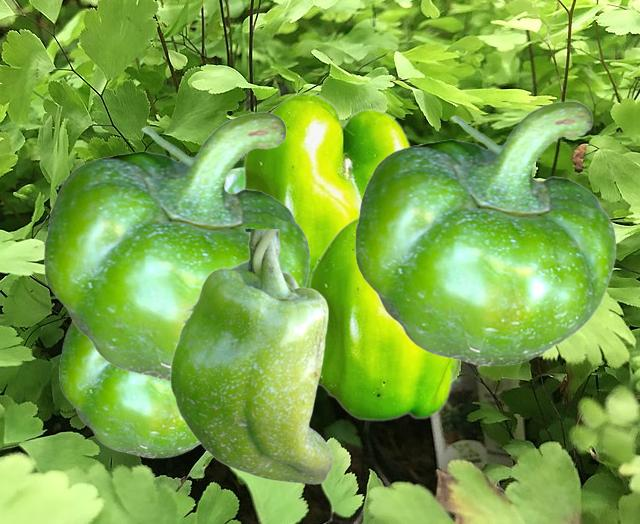bell_pepper: (44, 111, 309, 381), (355, 100, 615, 365), (169, 229, 332, 483), (305, 215, 460, 420), (240, 91, 411, 271), (59, 320, 199, 457)
